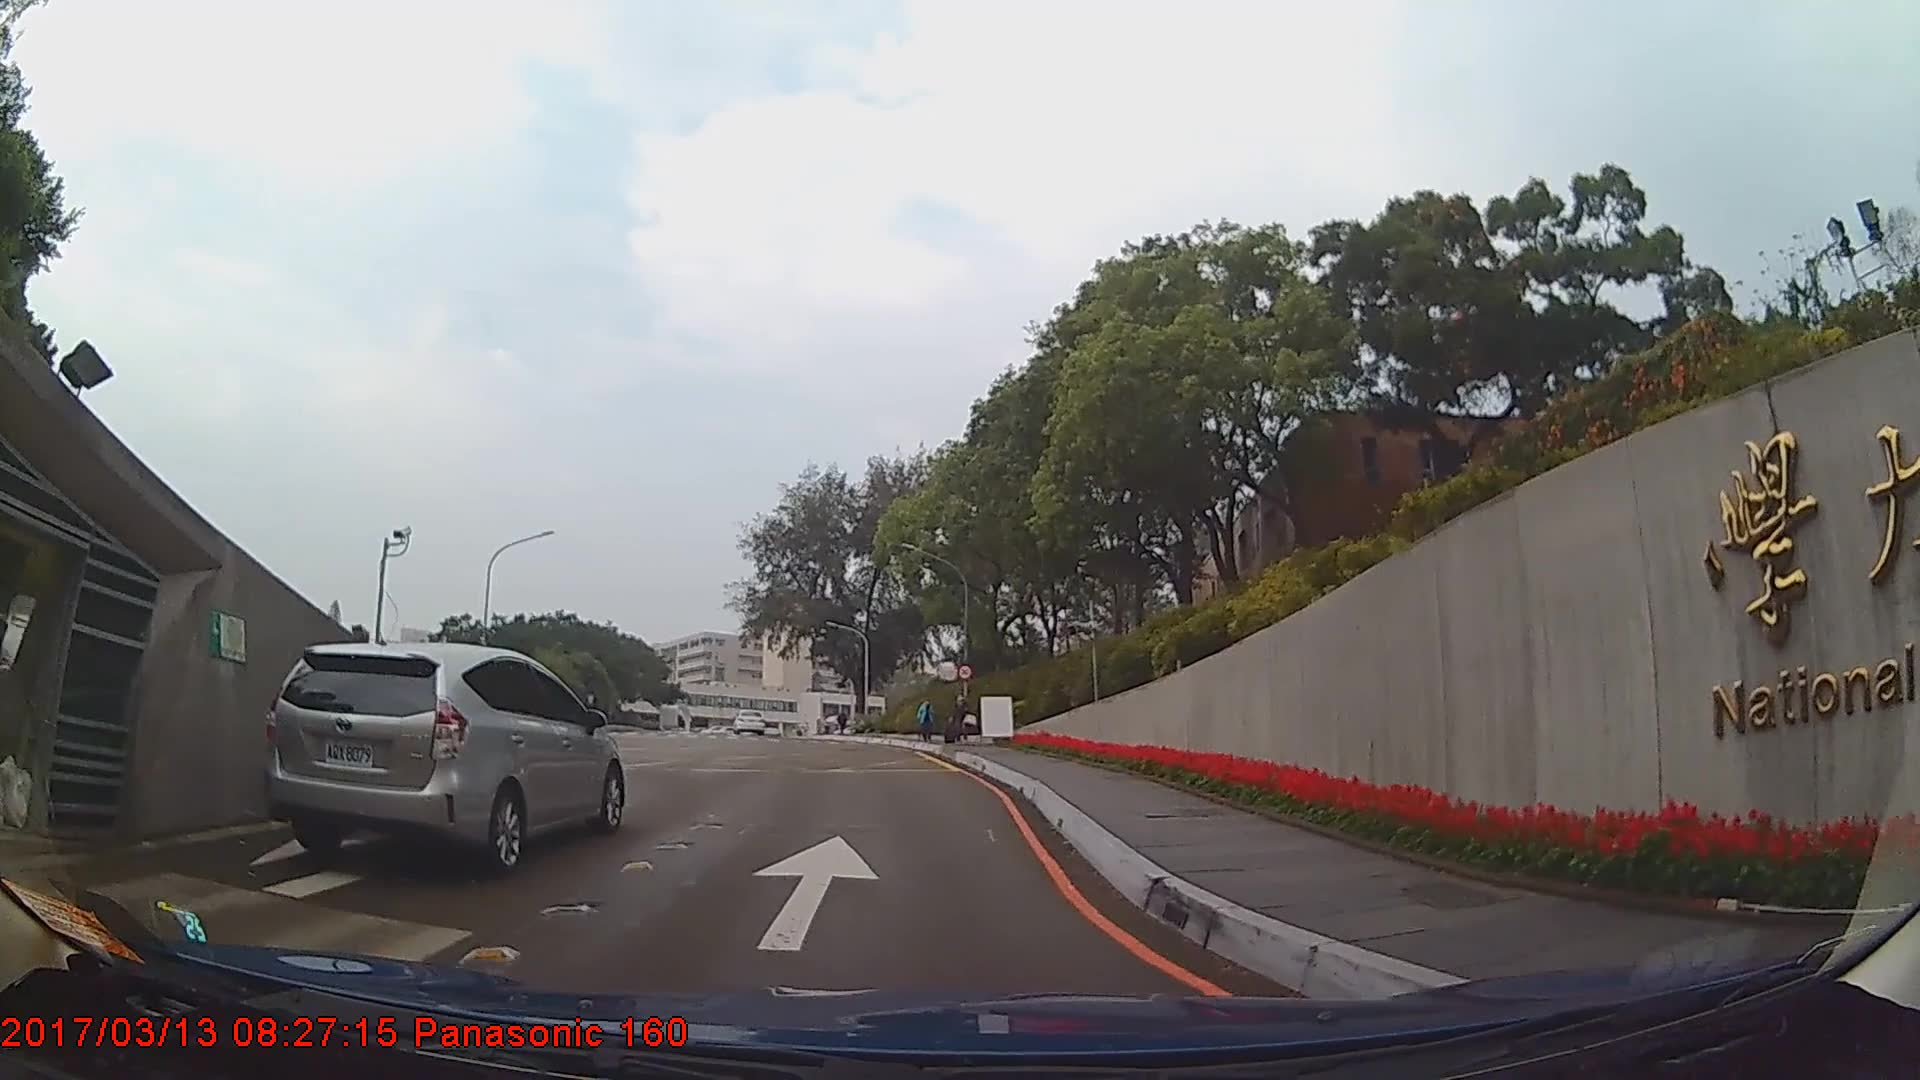pedestrian: (943, 693, 977, 746), (917, 701, 937, 747)
vehicle: (262, 641, 626, 881), (729, 707, 765, 735)
